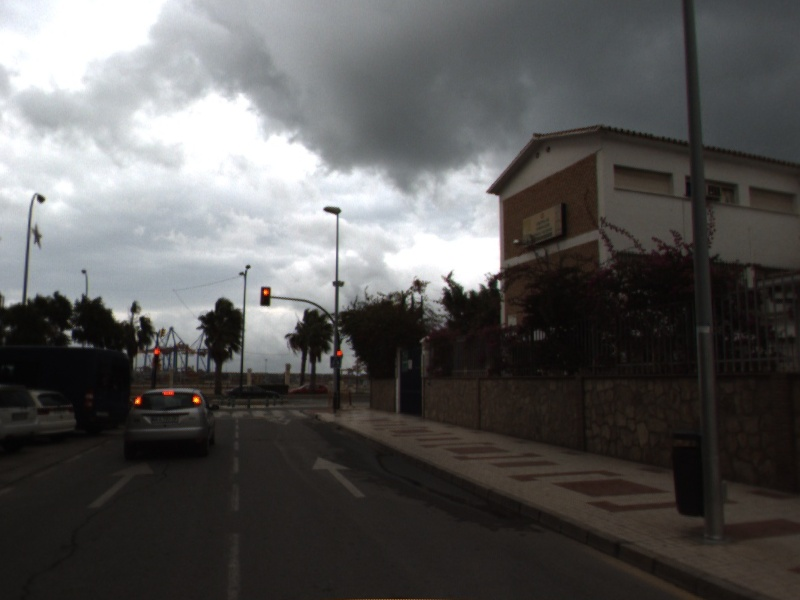STRAIGHT: (84, 458, 157, 511), (310, 454, 370, 500)
